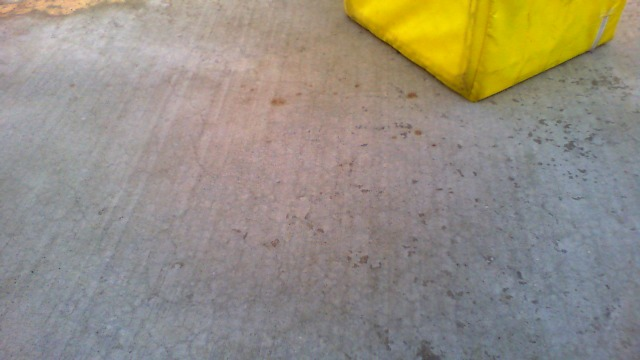cube: (339, 1, 626, 101)
